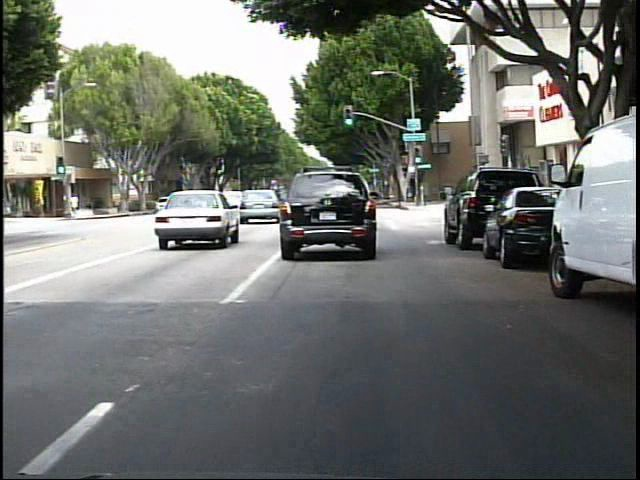person: (72, 192, 82, 219)
